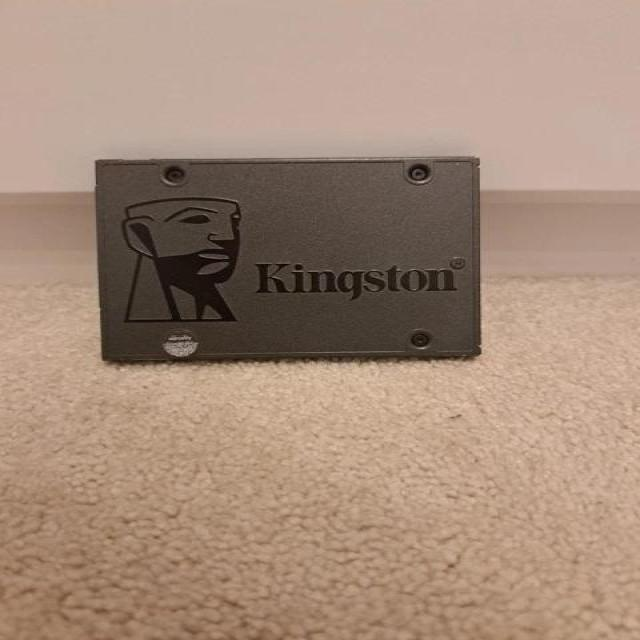DISK: (92, 155, 483, 366)
